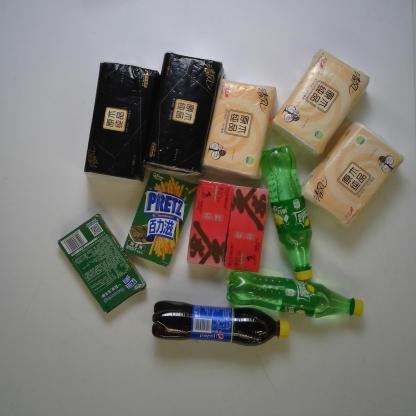Dessert: (53, 212, 148, 316), (120, 168, 203, 269)
Drink: (255, 146, 317, 282), (224, 267, 367, 322), (148, 298, 292, 350)
Instant Drink: (182, 176, 237, 268), (221, 182, 270, 276)
Tissue: (268, 44, 373, 160), (138, 46, 226, 180), (298, 122, 406, 227), (82, 59, 164, 184), (198, 76, 282, 184)
